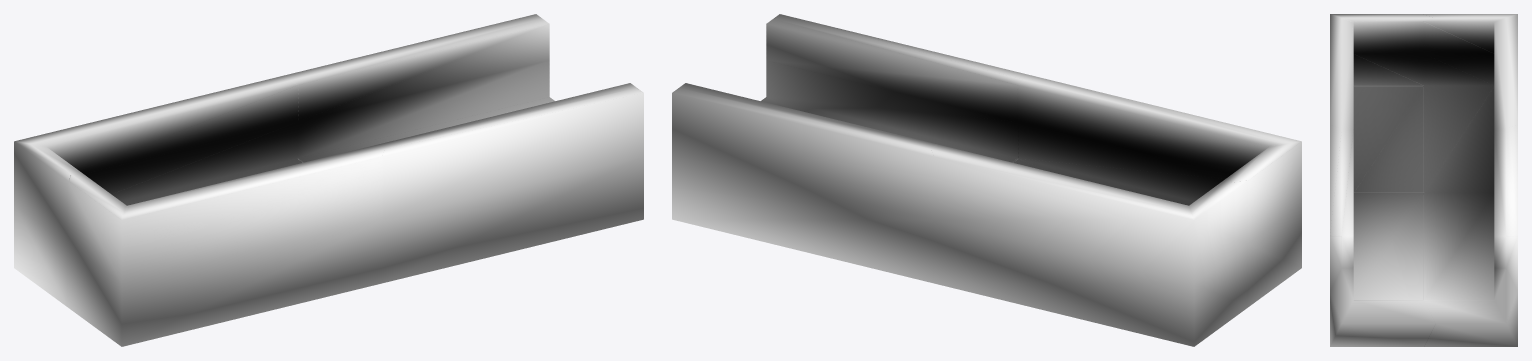
3 renders of one model, left to right at view 1: azimuth 30°, elevation 25°; view 2: azimuth 150°, elevation 25°; view 3: azimuth 270°, elevation 25°, orthographic. The views are drawn at different scales.
Parts seen in each view (by area): view 1: defaultobject; view 2: defaultobject; view 3: defaultobject.
Part boxes in pixels (x1,y1,x2,y2): defaultobject: (14, 14, 643, 346); defaultobject: (672, 14, 1301, 346); defaultobject: (1330, 14, 1517, 346).
Size of the model in its own units: 0.7 by 0.1625 by 0.25.
1 material, 1 textured.
